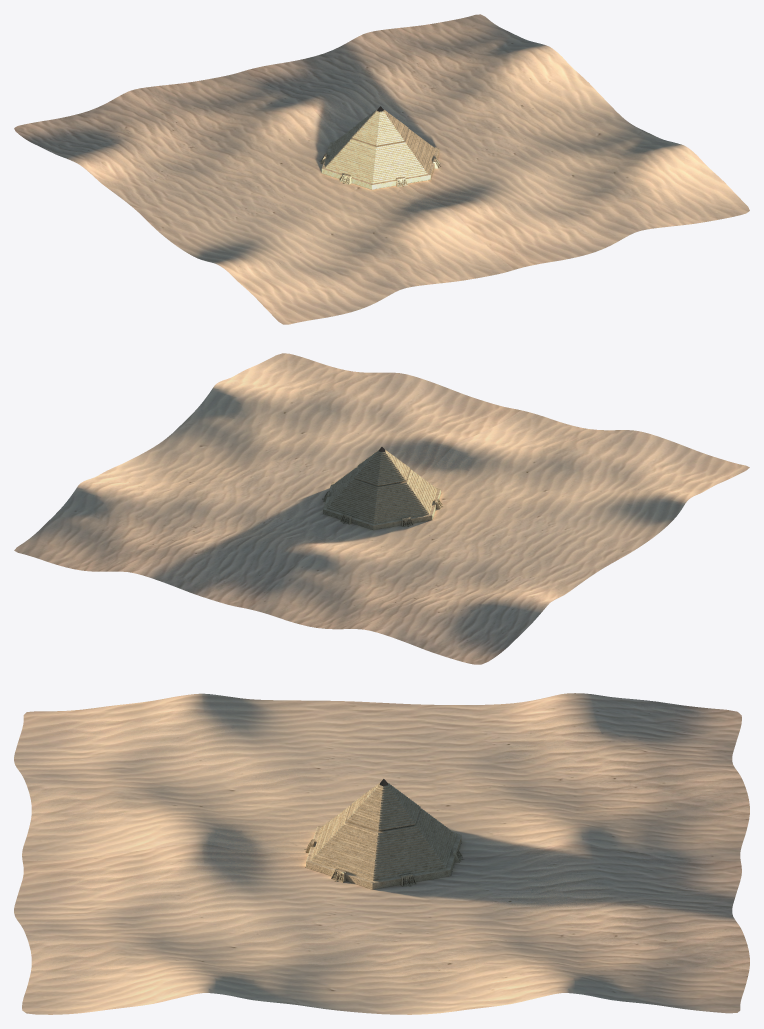
Rendered from pyramidScene.gltf.
The picture shows the model from 3 angles, top to bottom: view 1: azimuth 30°, elevation 25°; view 2: azimuth 150°, elevation 25°; view 3: azimuth 270°, elevation 25°; orthographic projection. The views are drawn at different scales.
Size of the model in its own units: 23.21 by 2.97 by 23.42.
15 materials, 8 textured.
